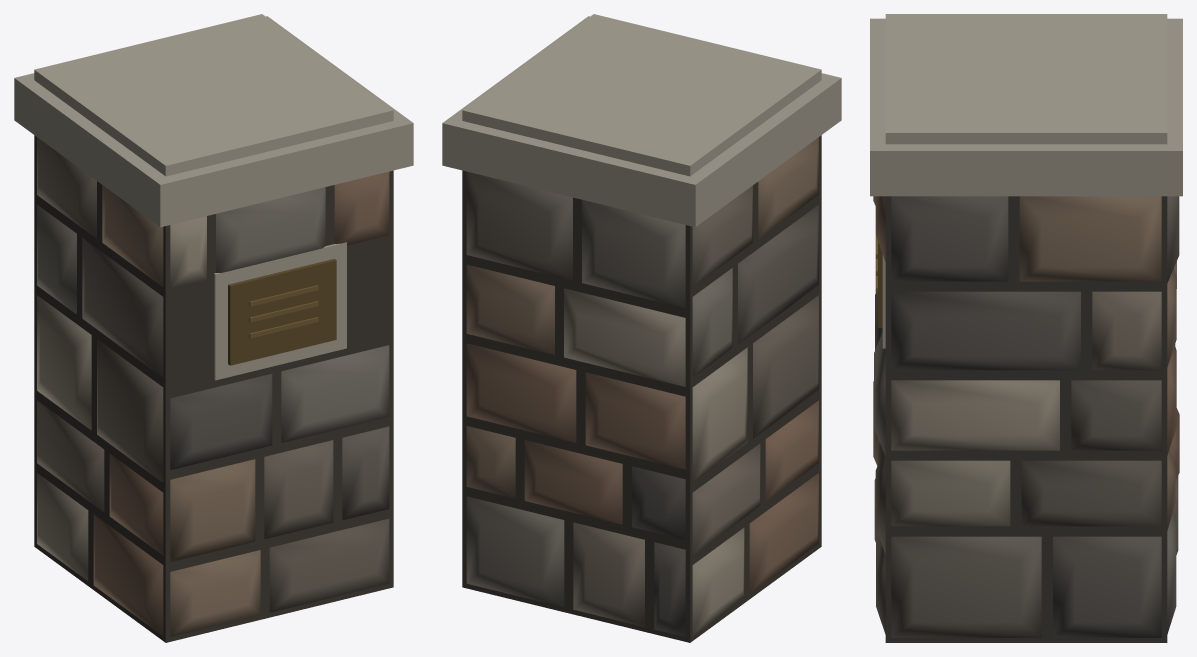
File: wall.pier.fieldstone.glb
3 views of the same model, side by side, from view 1: azimuth 30°, elevation 25°; view 2: azimuth 150°, elevation 25°; view 3: azimuth 270°, elevation 25° (orthographic). The views are drawn at different scales.
Parts seen in each view (by area): view 1: wall_pier_fieldstone; view 2: wall_pier_fieldstone; view 3: wall_pier_fieldstone.
Part boxes in pixels (left/top/right/bottom): wall_pier_fieldstone: left=14, top=14, right=413, bottom=642; wall_pier_fieldstone: left=442, top=14, right=841, bottom=642; wall_pier_fieldstone: left=870, top=14, right=1182, bottom=642.
Size of what is drawn, in the model's own units: 1 by 1.8 by 1.
